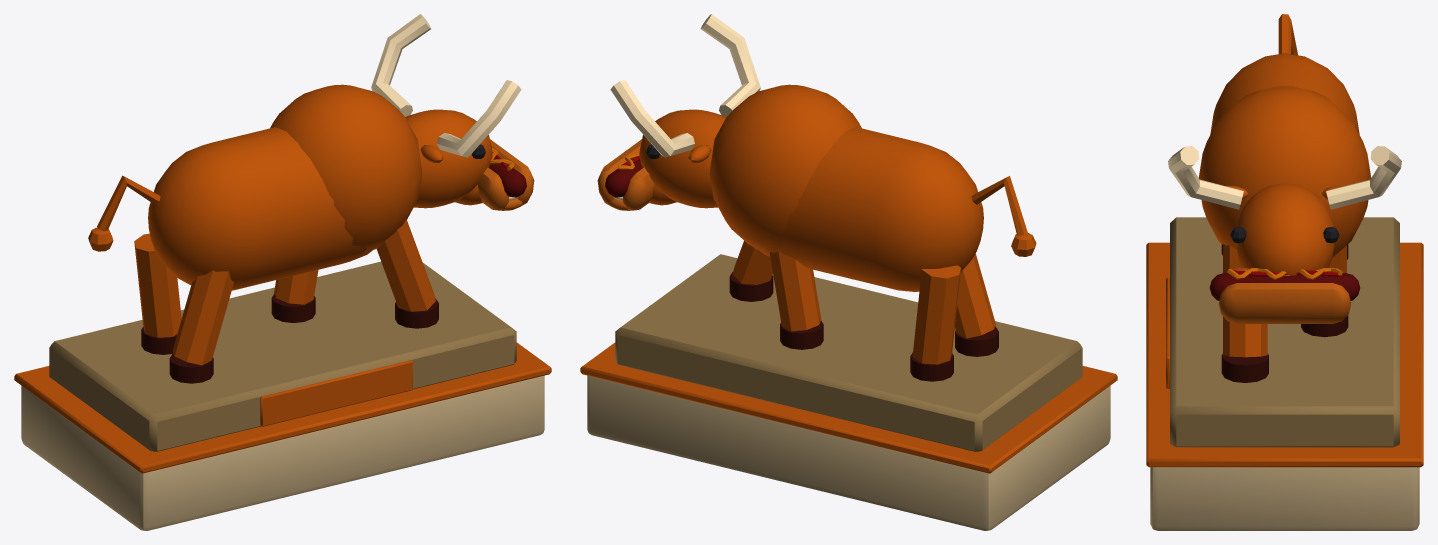
Rendered from BullStatue.obj.
The picture shows the model from 3 angles, left to right: view 1: azimuth 30°, elevation 25°; view 2: azimuth 150°, elevation 25°; view 3: azimuth 270°, elevation 25°; orthographic projection. The views are drawn at different scales.
Parts seen in each view (by area): view 1: BullStatue; view 2: BullStatue; view 3: BullStatue.
Boxes of the visible parts, bbox=[...] form: BullStatue: bbox=[14, 14, 551, 530]; BullStatue: bbox=[580, 14, 1117, 530]; BullStatue: bbox=[1146, 14, 1423, 530].
Bounding box in the file's own units: 6.83 × 5.25 × 3.5.
